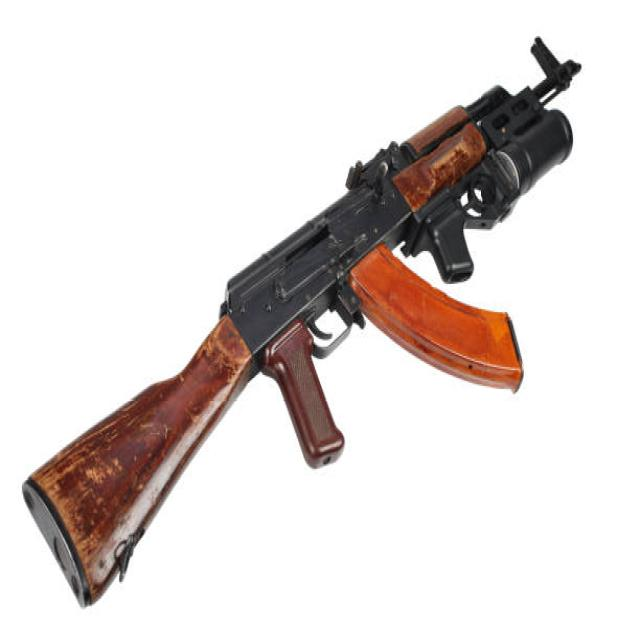rifle: (14, 25, 583, 627)
